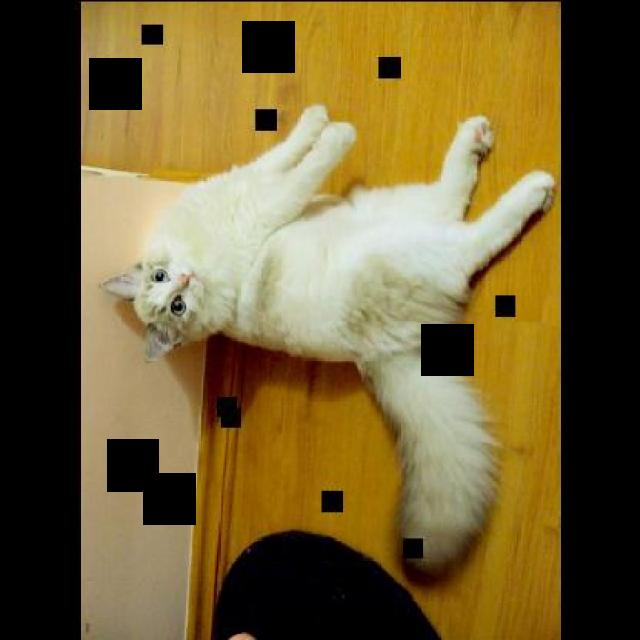unauthorized: (99, 103, 556, 577)
